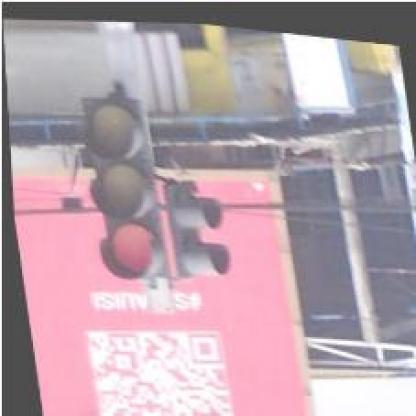red: (74, 88, 168, 282)
